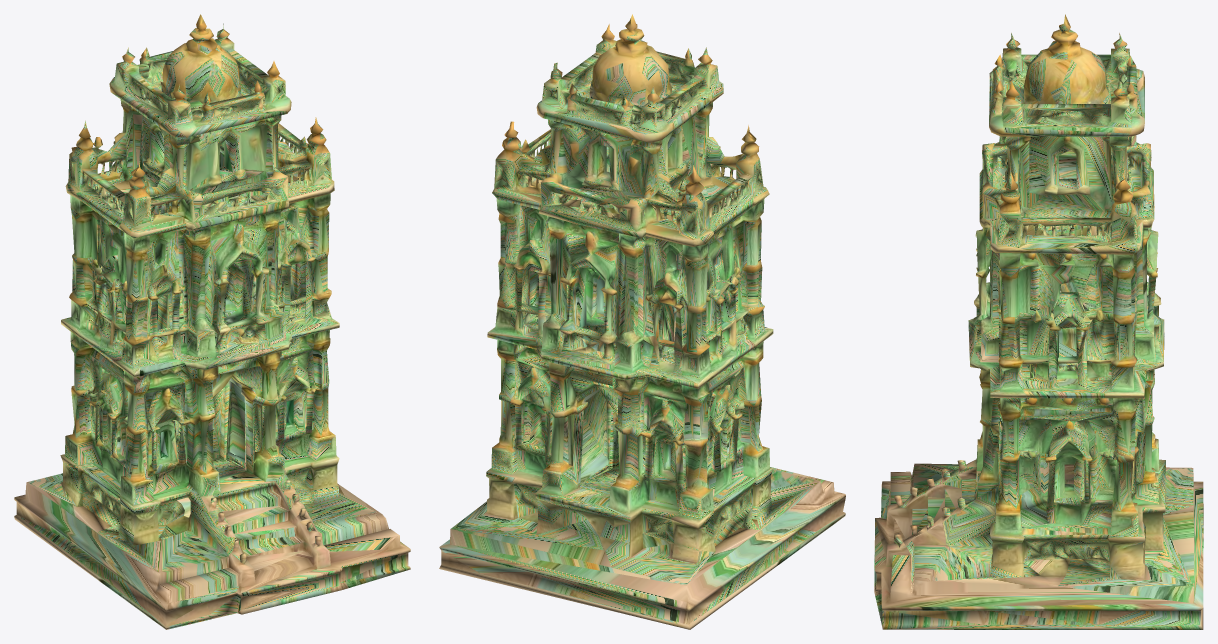
Rendered from Emerald_Palace_with_G.glb.
The picture shows the model from 3 angles, left to right: view 1: azimuth 30°, elevation 25°; view 2: azimuth 150°, elevation 25°; view 3: azimuth 270°, elevation 25°; orthographic projection. The views are drawn at different scales.
Visible parts, largest first — view 1: Emerald_Palace_with_G; view 2: Emerald_Palace_with_G; view 3: Emerald_Palace_with_G.
Boxes of the visible parts, bbox=[...] form: Emerald_Palace_with_G: bbox=[14, 14, 410, 629]; Emerald_Palace_with_G: bbox=[439, 14, 845, 629]; Emerald_Palace_with_G: bbox=[874, 14, 1203, 629].
Size of the model in its own units: 0.9296 by 1.9 by 1.02.
Materials: 1 (1 with a texture image).
